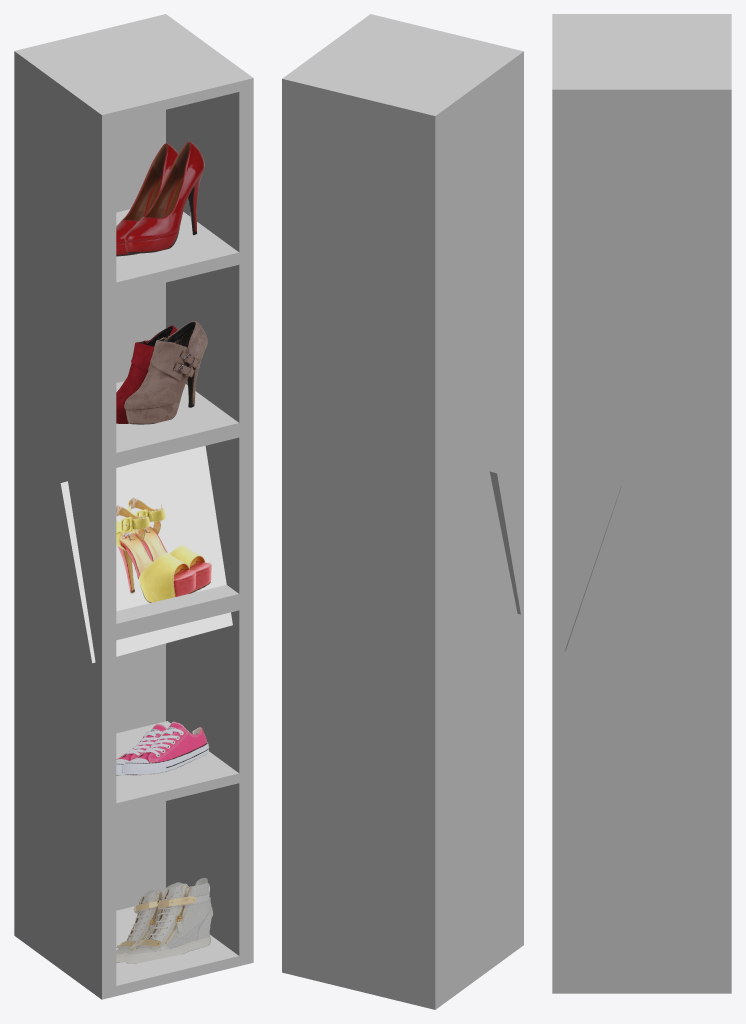
File: shopshelf.fbx
The picture shows the model from 3 angles, left to right: view 1: azimuth 30°, elevation 25°; view 2: azimuth 150°, elevation 25°; view 3: azimuth 270°, elevation 25°; orthographic projection. The views are drawn at different scales.
Visible parts, largest first — view 1: pCube1, pPlane3, pPlane2, pPlane1, pPlane5, pPlane4; view 2: pCube1, pPlane3; view 3: pCube1.
Boxes of the visible parts, <box> form: pCube1: <box>14,14,253,999</box>; pPlane3: <box>60,446,232,663</box>; pPlane2: <box>116,321,207,424</box>; pPlane1: <box>116,141,204,256</box>; pPlane5: <box>116,878,213,963</box>; pPlane4: <box>116,721,208,775</box>; pCube1: <box>282,14,523,1009</box>; pPlane3: <box>489,471,520,614</box>; pCube1: <box>552,14,731,993</box>.
Size of the model in its own units: 2.21 by 11.04 by 1.94.
Materials: 6 (5 with a texture image).
